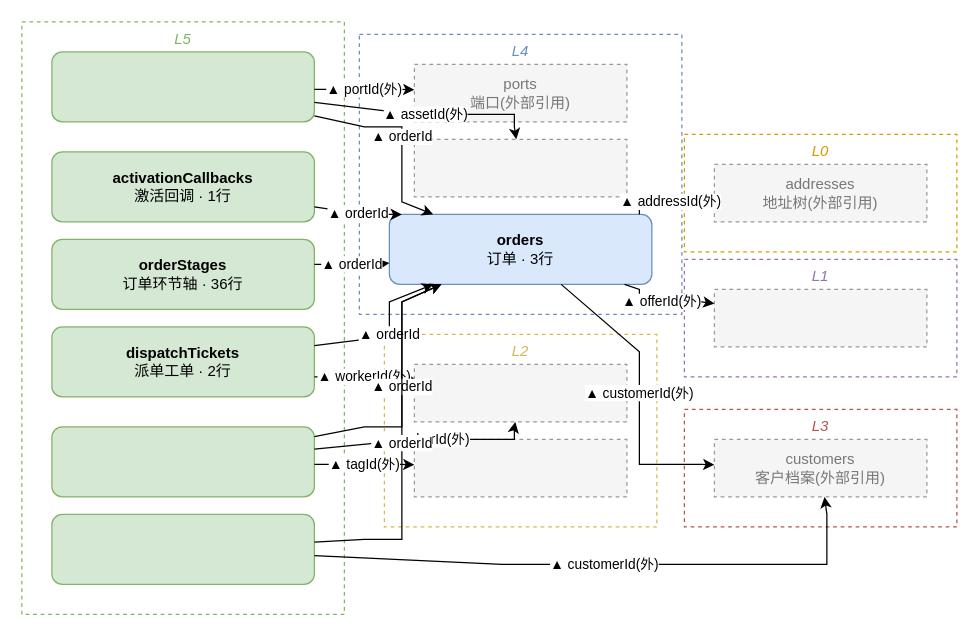
This 979x636 diagram has some shape labels left out. Each missing label, with the centre of its shape:
assets 资产台账(外部引用): point (520, 167)
complaints 报障工单 · 1行: point (182, 548)
dismantles 拆机单 · 1行: point (182, 86)
productOffers 产品目录(外部引用): point (820, 317)
scanLogs 扫码记录 · 1行: point (182, 461)
tags 电子标签池(外部引用): point (520, 467)
workers 师傅(外部引用): point (520, 392)
